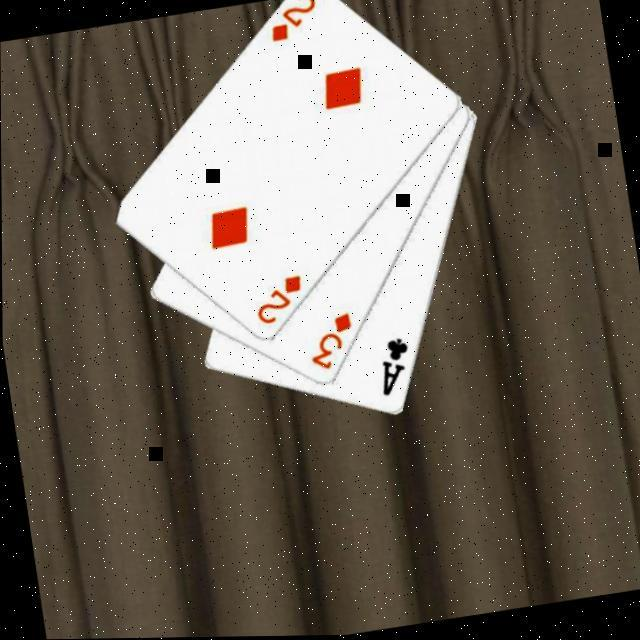2D: (248, 272, 309, 330), (262, 0, 323, 46)
3D: (300, 308, 360, 376)
AC: (371, 334, 416, 402)
